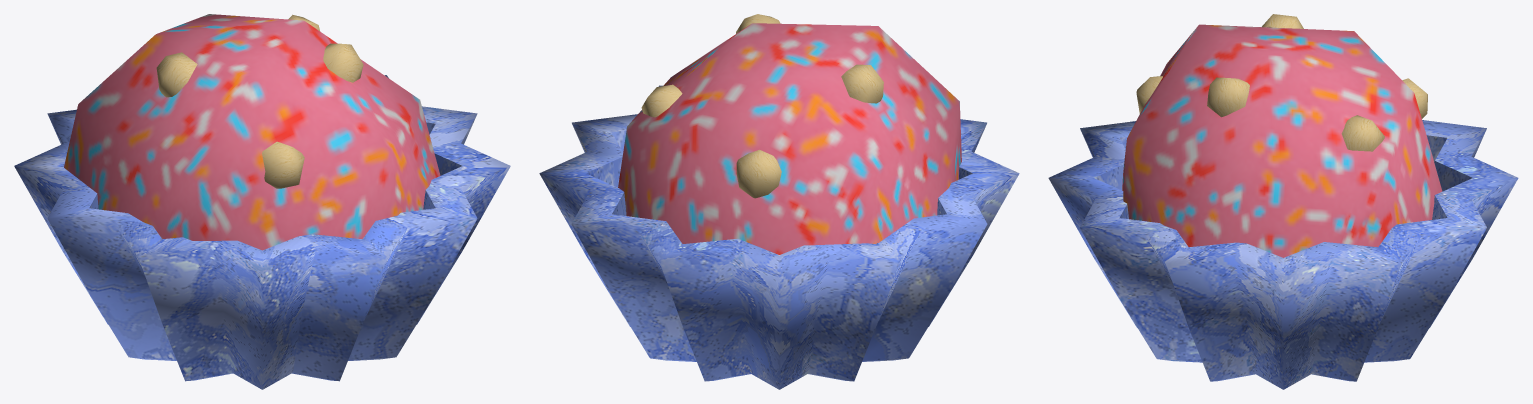
File: Chocolate_Truffles.glb
3 views of the same model, side by side, from view 1: azimuth 30°, elevation 25°; view 2: azimuth 150°, elevation 25°; view 3: azimuth 270°, elevation 25° (orthographic). The views are drawn at different scales.
Visible parts, largest first — view 1: Chocolate_truffles; view 2: Chocolate_truffles; view 3: Chocolate_truffles.
Part boxes in pixels (x1,y1,x2,y2): Chocolate_truffles: (14,14,510,389); Chocolate_truffles: (539,14,1019,389); Chocolate_truffles: (1048,14,1518,389).
Bounding box in the file's own units: 0.3315 × 0.2257 × 0.3315.
1 material, 1 textured.
